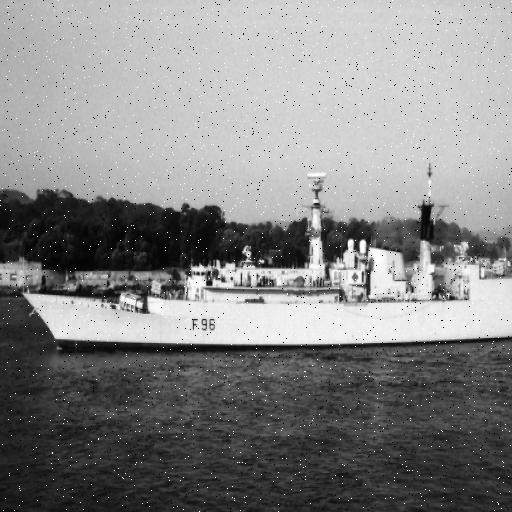Fragata: (23, 159, 512, 355)
